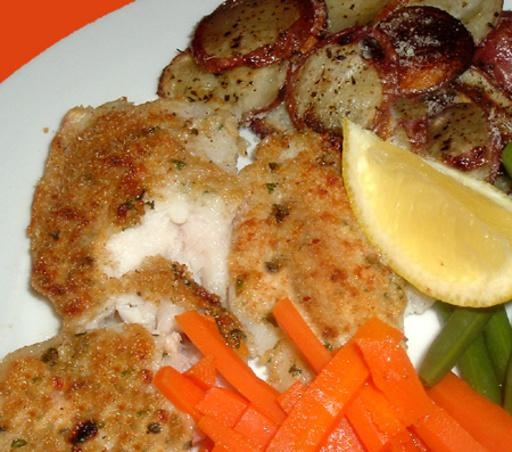background: (0, 0, 410, 319)
